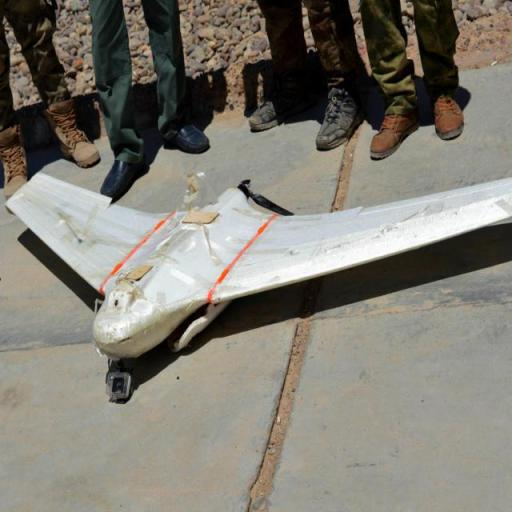uav: (9, 172, 512, 398)
